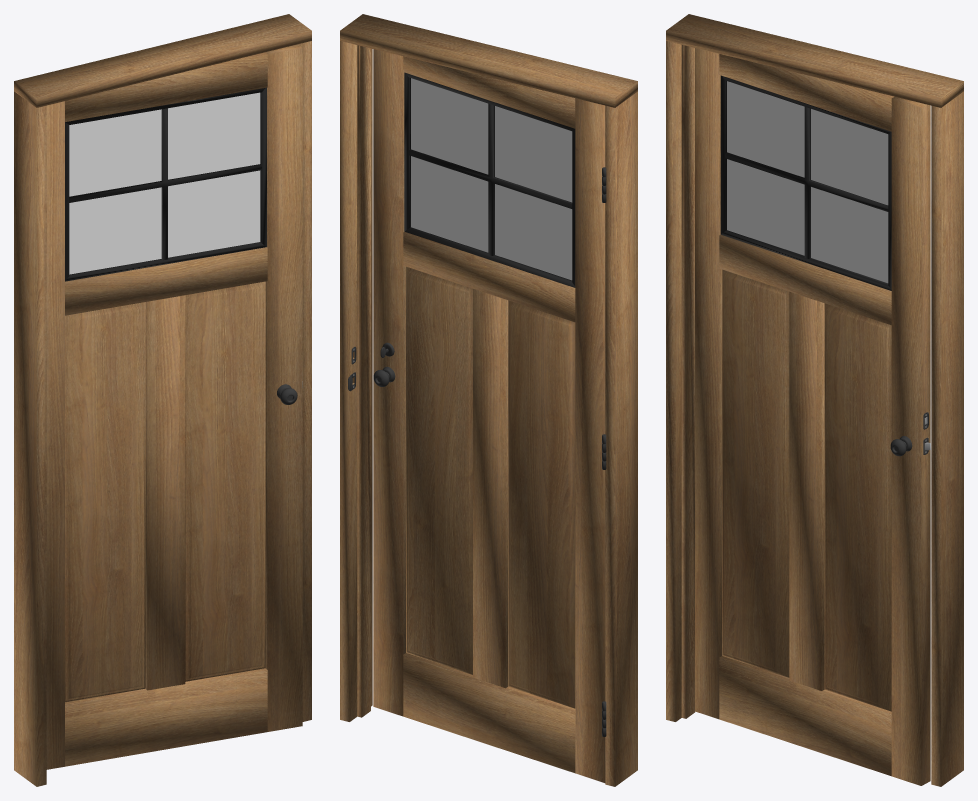
Rendered from modern_door.glb.
3 views of the same model, side by side, from view 1: azimuth 30°, elevation 25°; view 2: azimuth 150°, elevation 25°; view 3: azimuth 330°, elevation 25° (orthographic).
Parts seen in each view (by area): view 1: Door, Frame; view 2: Door, Frame; view 3: Door, Frame.
Part boxes in pixels (<box>): Door: <box>46,44,302,769</box>; Frame: <box>14,14,311,786</box>; Door: <box>373,49,606,782</box>; Frame: <box>340,14,637,786</box>; Door: <box>695,48,930,785</box>; Frame: <box>666,14,963,786</box>.
Size of the model in its own units: 0.8499 by 2.03 by 0.2.
5 materials, 1 textured.
